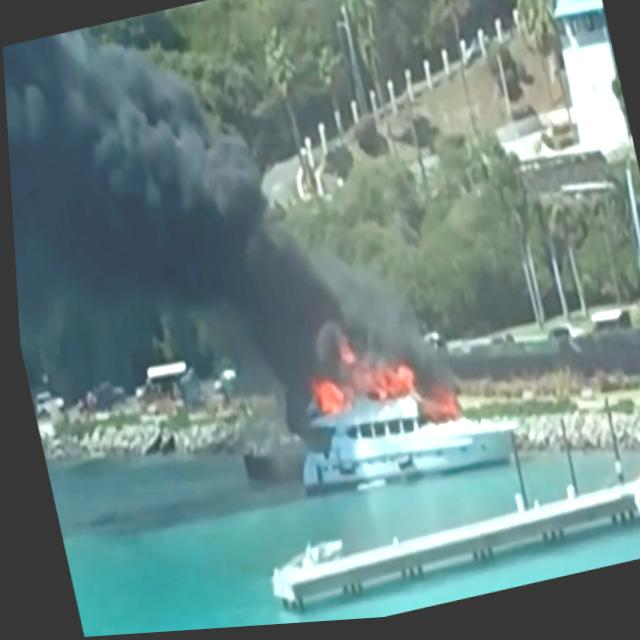fire: (302, 327, 409, 428)
smoke: (1, 0, 277, 324), (2, 36, 100, 313)
